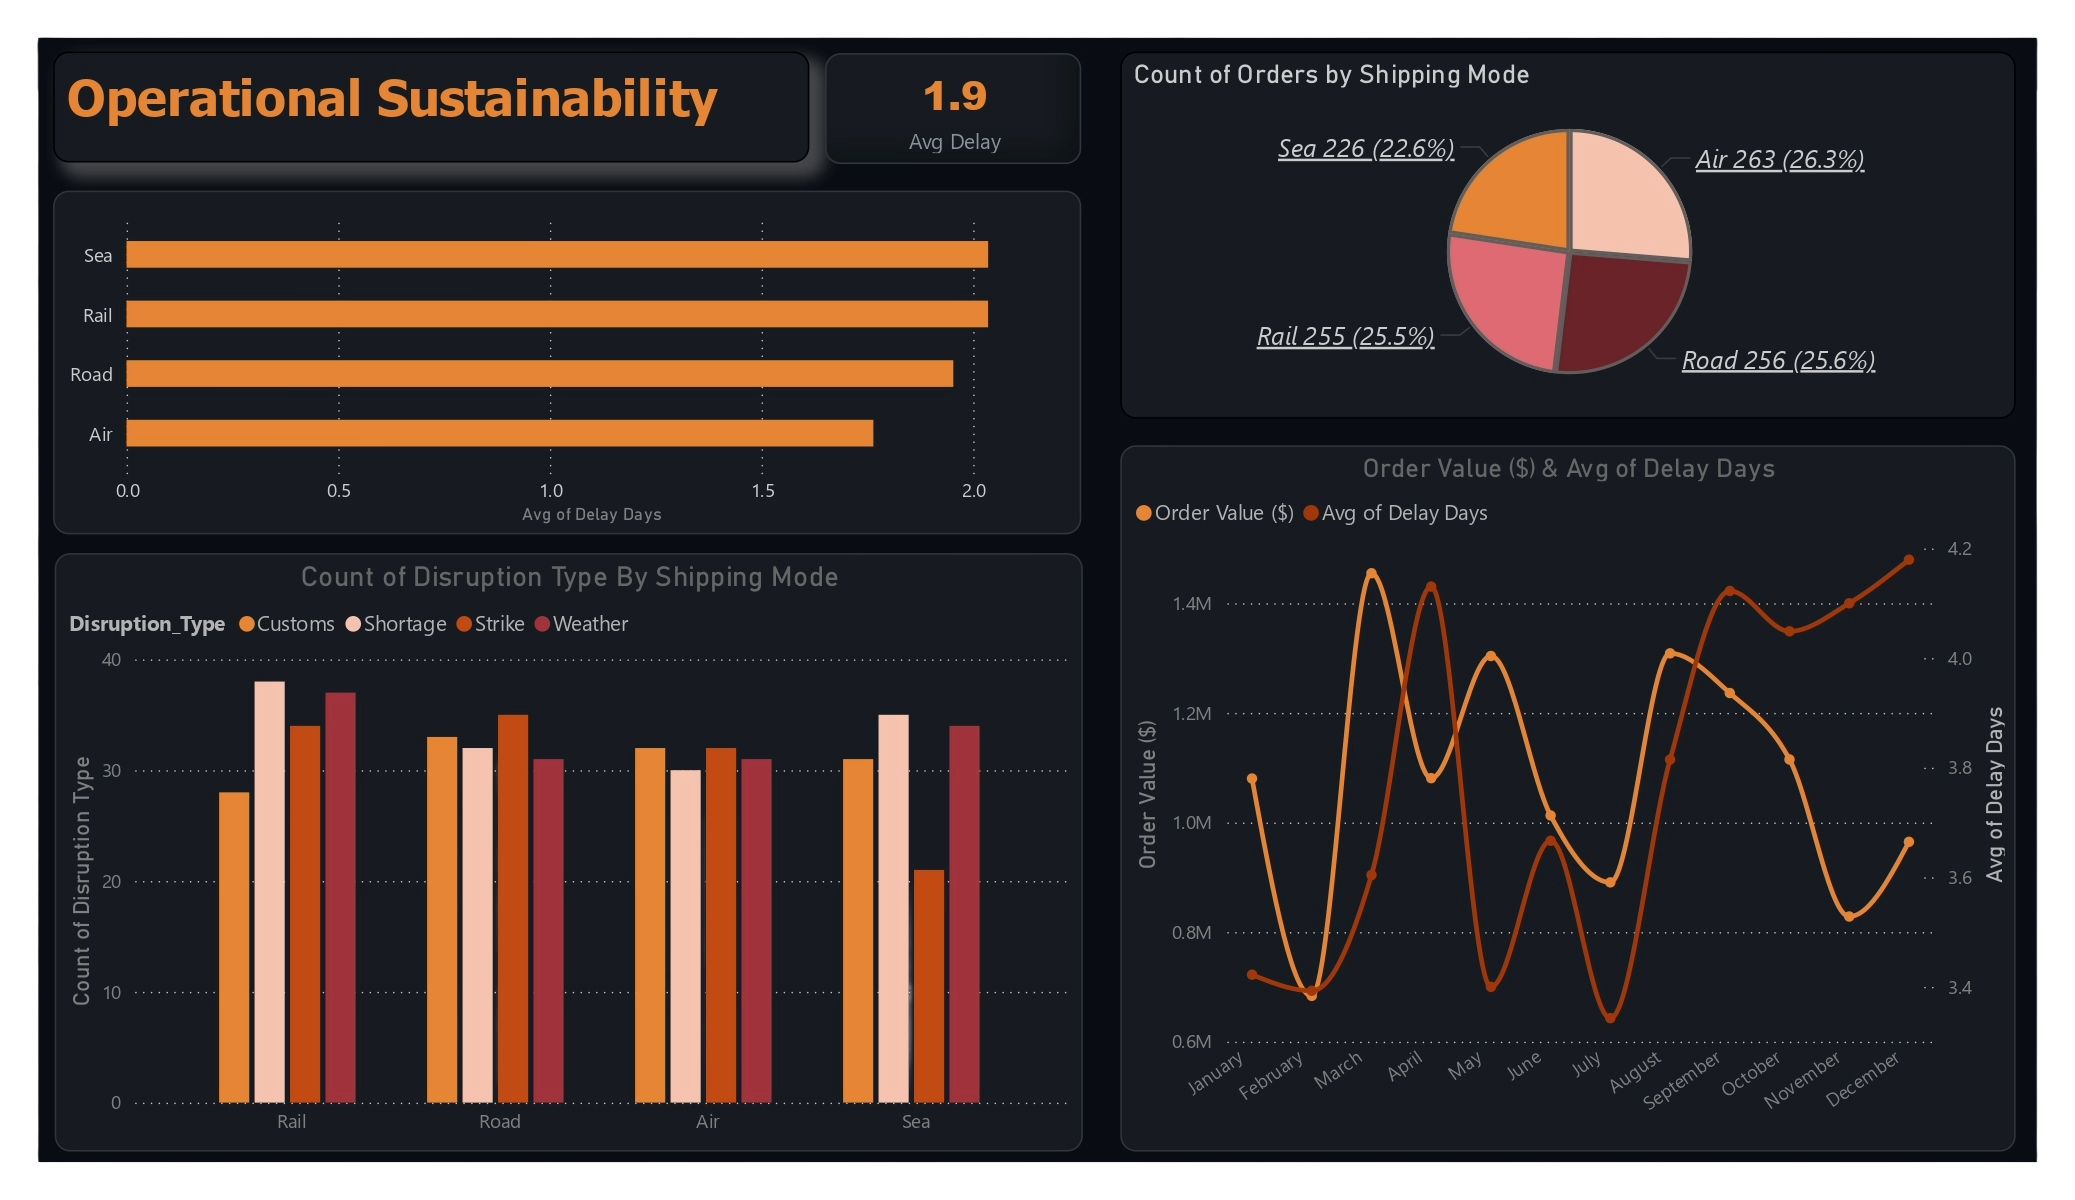

What the dashboard file says about the page in this screenshot:
{"tool":"powerbi","page":{"name":"Operational Sustainability","canvas":[1280,720],"ordinal":2},"visuals":[{"type":"clusteredColumnChart","title":"Count of Disruption Type By Shipping Mode","fields":{"Category":["Table1.Shipping_Mode"],"Y":["CountNonNull(Table1.Disruption_Type)"],"Series":["Table1.Disruption_Type"]},"box":[11.2,330,657.5,382.5],"z":0},{"type":"lineChart","title":"Order Value ($) & Avg of Delay Days","fields":{"Category":["Table1.Order_Date.Variation.Date Hierarchy.Month"],"Y2":["Avg(Table1.Delay_Days)"],"Y":["Sum(Table1.Order_Value_USD)"]},"box":[692.5,261.2,573.8,451.2],"z":1000},{"type":"card","fields":{"Values":["Table1.Avg Delay"]},"box":[420,102.5,196.2,101.2],"z":2000},{"type":"textbox","box":[10,8.8,483.8,71.2],"z":3000},{"type":"pieChart","title":"Count of Orders by Shipping Mode","fields":{"Category":["Table1.Shipping_Mode"],"Y":["CountNonNull(Table1.Order_ID)"]},"box":[692.5,8.8,573.8,235],"z":4000},{"type":"barChart","fields":{"Category":["Table1.Shipping_Mode"],"Y":["Avg(Table1.Delay_Days)"]},"box":[10,97.5,657.5,220],"z":5000},{"type":"card","fields":{"Values":["Table1.Avg Delay"]},"box":[504.2,10.3,164.2,71.1],"z":6000}]}

Visuals, with their boxes in screenshot pixels (x1, y1, x2, y2):
"Count of Disruption Type By Shipping Mode" clusteredColumnChart: bbox=(29, 544, 1080, 1155)
"Order Value ($) & Avg of Delay Days" lineChart: bbox=(1118, 434, 2035, 1155)
card - Table1.Avg Delay: bbox=(682, 180, 996, 342)
textbox: bbox=(27, 30, 800, 144)
"Count of Orders by Shipping Mode" pieChart: bbox=(1118, 30, 2035, 406)
barChart - Table1.Shipping_Mode x Avg(Table1.Delay_Days): bbox=(27, 172, 1078, 524)
card - Table1.Avg Delay: bbox=(817, 33, 1079, 146)
